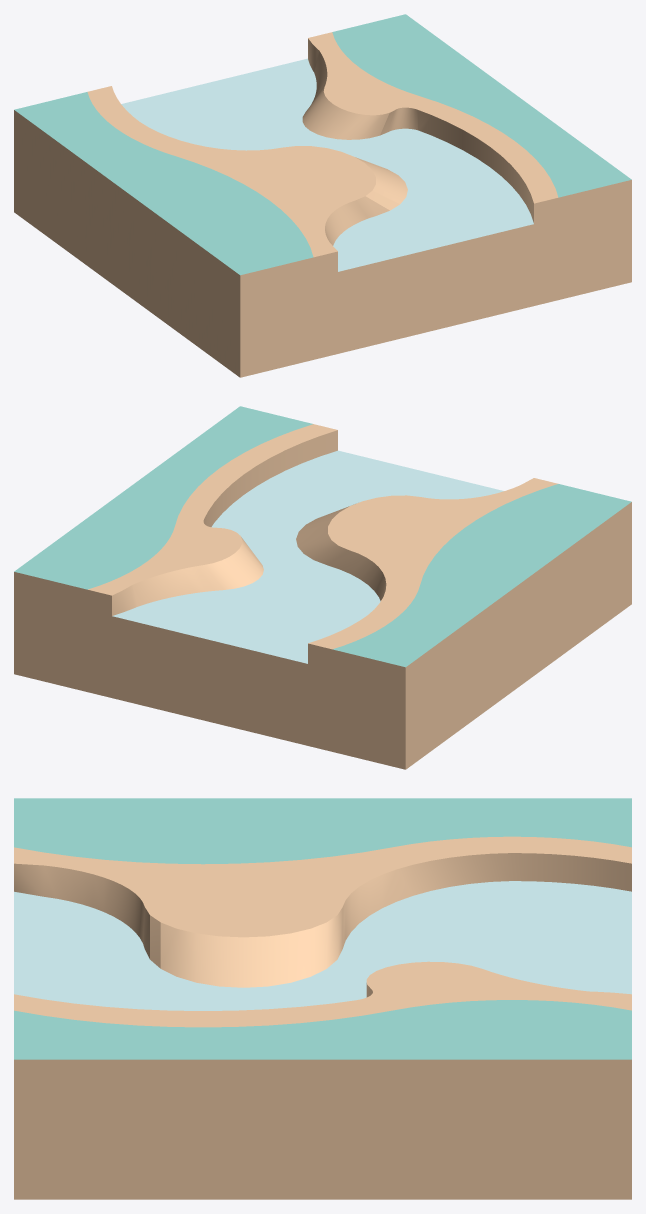
Rendered from ground_dirtRiverBanks.glb.
3 views of the same model, one above another, from view 1: azimuth 30°, elevation 25°; view 2: azimuth 150°, elevation 25°; view 3: azimuth 270°, elevation 25° (orthographic). The views are drawn at different scales.
Parts seen in each view (by area): view 1: ground_dirtRiverBanks; view 2: ground_dirtRiverBanks; view 3: ground_dirtRiverBanks.
Part boxes in pixels (x1,y1,x2,y2): ground_dirtRiverBanks: (14,14,631,377); ground_dirtRiverBanks: (14,406,631,769); ground_dirtRiverBanks: (14,798,631,1199).
Size of the model in its own units: 1 by 0.25 by 1.
